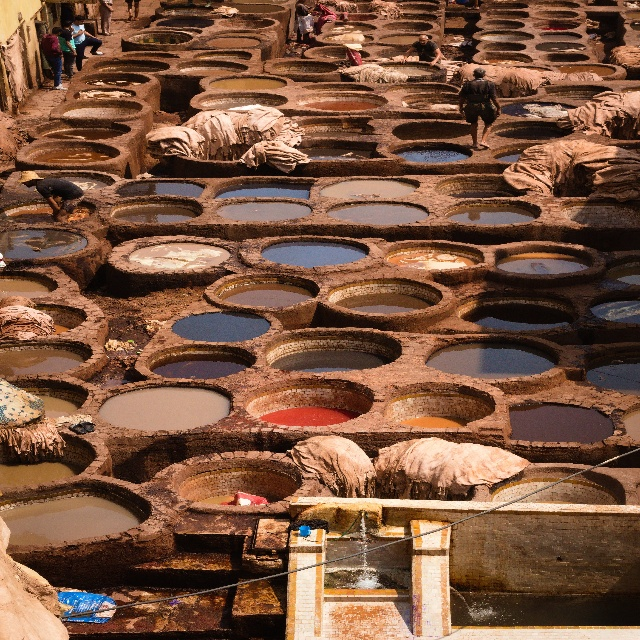Sin_guantes: (399, 56, 408, 64), (430, 59, 437, 68), (495, 109, 501, 118), (78, 28, 84, 36), (108, 5, 114, 13), (459, 106, 464, 114), (72, 51, 77, 57)
